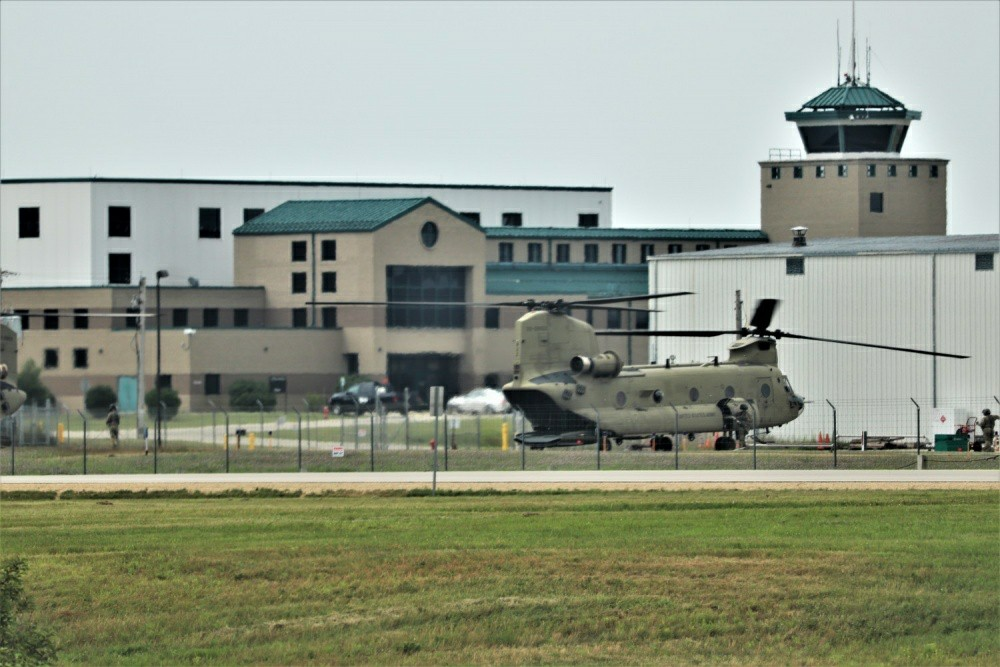chinook: (371, 236, 901, 471)
